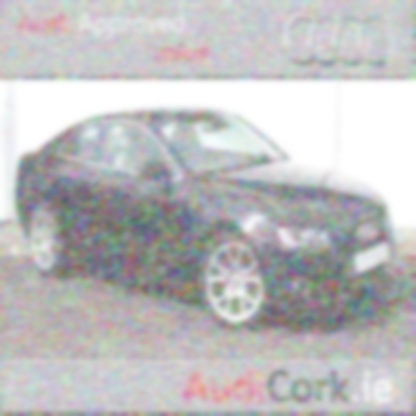Vehicle: (14, 103, 400, 337)
